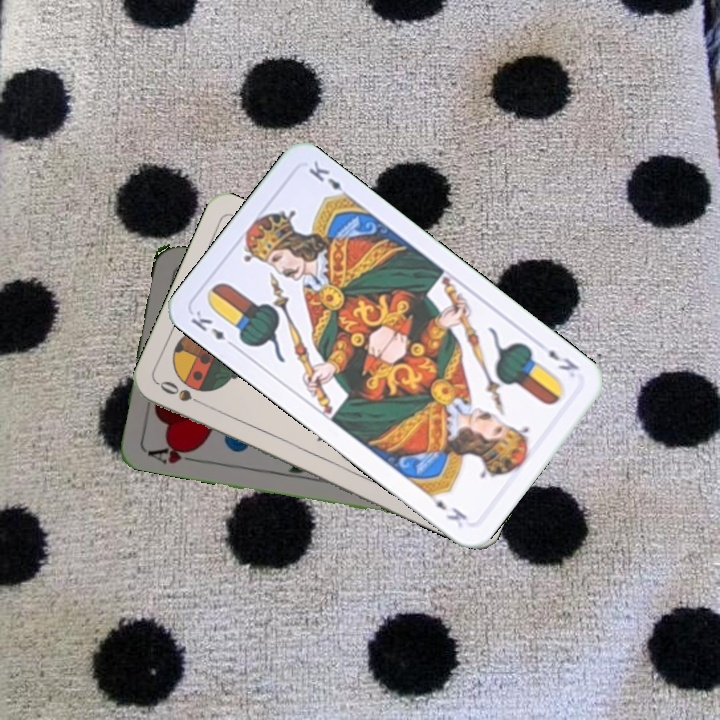EK: (186, 306, 239, 351), (544, 345, 582, 374)
HA: (143, 439, 201, 467)
SO: (155, 376, 211, 410)
